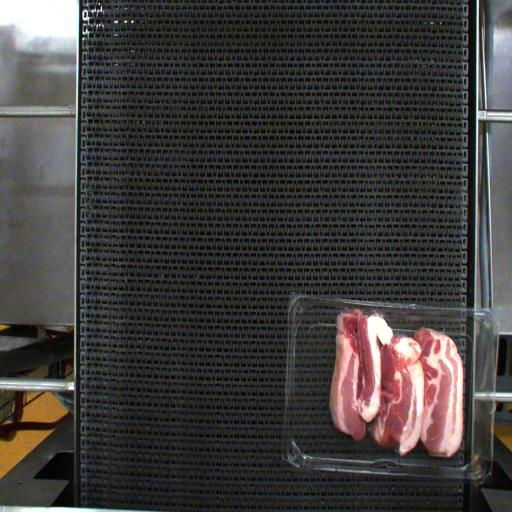packaging-error: (332, 294, 393, 324)
